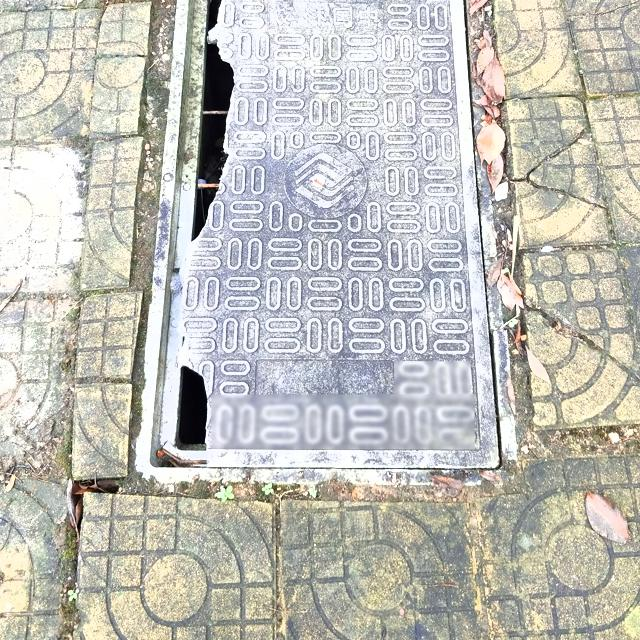broke: (132, 0, 502, 491)
